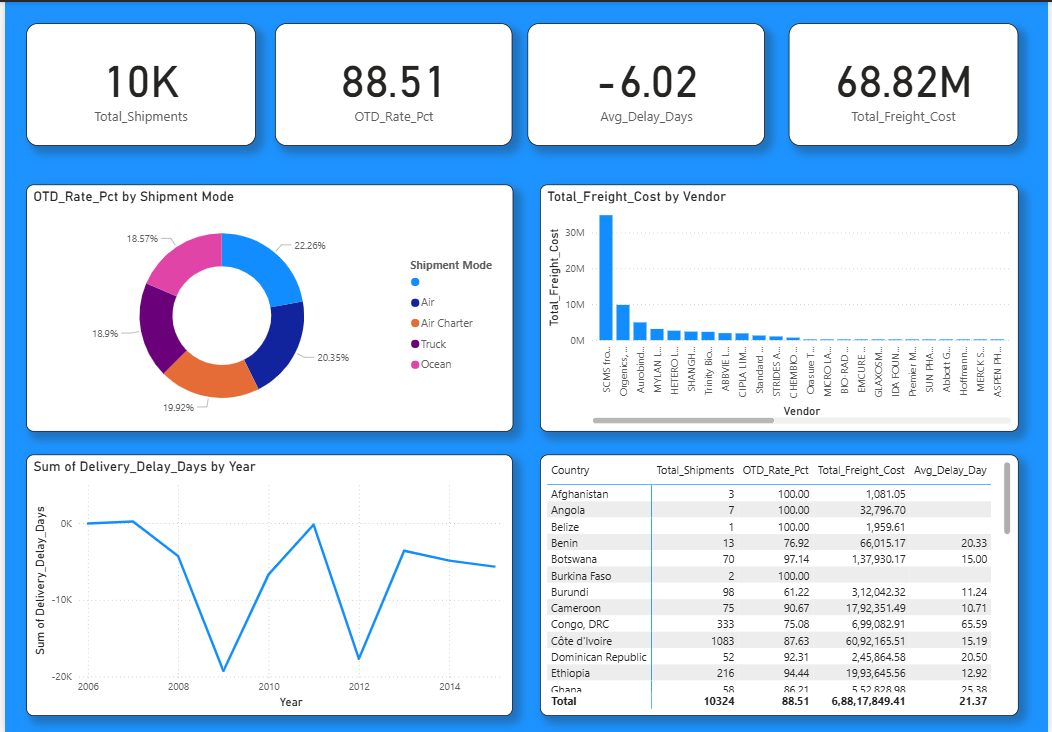

What the dashboard file says about the page in this screenshot:
{"tool":"powerbi","page":{"name":"DA of shipment","canvas":[1280,900],"ordinal":0},"visuals":[{"type":"card","fields":{"Values":["cleaned_supply_chain_data.Total_Shipments"]},"box":[26,26,281.3,150],"z":0},{"type":"card","fields":{"Values":["cleaned_supply_chain_data.OTD_Rate_Pct"]},"box":[331.8,26,291.4,150],"z":1000},{"type":"card","fields":{"Values":["cleaned_supply_chain_data.Avg_Delay_Days"]},"box":[640.6,26,291.4,150],"z":2000},{"type":"card","fields":{"Values":["cleaned_supply_chain_data.Total_Freight_Cost"]},"box":[962.3,26,281.3,150],"z":3000},{"type":"donutChart","fields":{"Category":["cleaned_supply_chain_data.Shipment Mode"],"Y":["cleaned_supply_chain_data.OTD_Rate_Pct"]},"box":[26,223.6,597.3,303],"z":4000},{"type":"clusteredColumnChart","fields":{"Category":["cleaned_supply_chain_data.Vendor"],"Y":["cleaned_supply_chain_data.Total_Freight_Cost"]},"box":[656.5,223.6,587.2,303],"z":5000},{"type":"lineChart","fields":{"Category":["cleaned_supply_chain_data.Scheduled Delivery Date.Variation.Date Hierarchy.Year"],"Y":["Sum(cleaned_supply_chain_data.Delivery_Delay_Days)"]},"box":[26.1,555.2,596.6,320.6],"z":6000},{"type":"pivotTable","fields":{"Rows":["cleaned_supply_chain_data.Country"],"Values":["cleaned_supply_chain_data.Total_Shipments","cleaned_supply_chain_data.OTD_Rate_Pct","cleaned_supply_chain_data.Total_Freight_Cost","cleaned_supply_chain_data.Avg_Delay_Day"]},"box":[656,555,587,321],"z":6001}]}

Visuals, with their boxes in screenshot pixels (x1, y1, x2, y2), scaled from the page's 1280x900 canvas onto the 1052x732 screenshot:
card - cleaned_supply_chain_data.Total_Shipments: <bbox>21, 21, 253, 143</bbox>
card - cleaned_supply_chain_data.OTD_Rate_Pct: <bbox>273, 21, 512, 143</bbox>
card - cleaned_supply_chain_data.Avg_Delay_Days: <bbox>526, 21, 766, 143</bbox>
card - cleaned_supply_chain_data.Total_Freight_Cost: <bbox>791, 21, 1022, 143</bbox>
donutChart - cleaned_supply_chain_data.Shipment Mode x cleaned_supply_chain_data.OTD_Rate_Pct: <bbox>21, 182, 512, 428</bbox>
clusteredColumnChart - cleaned_supply_chain_data.Vendor x cleaned_supply_chain_data.Total_Freight_Cost: <bbox>540, 182, 1022, 428</bbox>
lineChart - cleaned_supply_chain_data.Scheduled Delivery Date.Variation.Date Hierarchy.Year x Sum(cleaned_supply_chain_data.Delivery_Delay_Days): <bbox>21, 452, 512, 712</bbox>
pivotTable - cleaned_supply_chain_data.Country x cleaned_supply_chain_data.Total_Shipments: <bbox>539, 451, 1022, 712</bbox>
